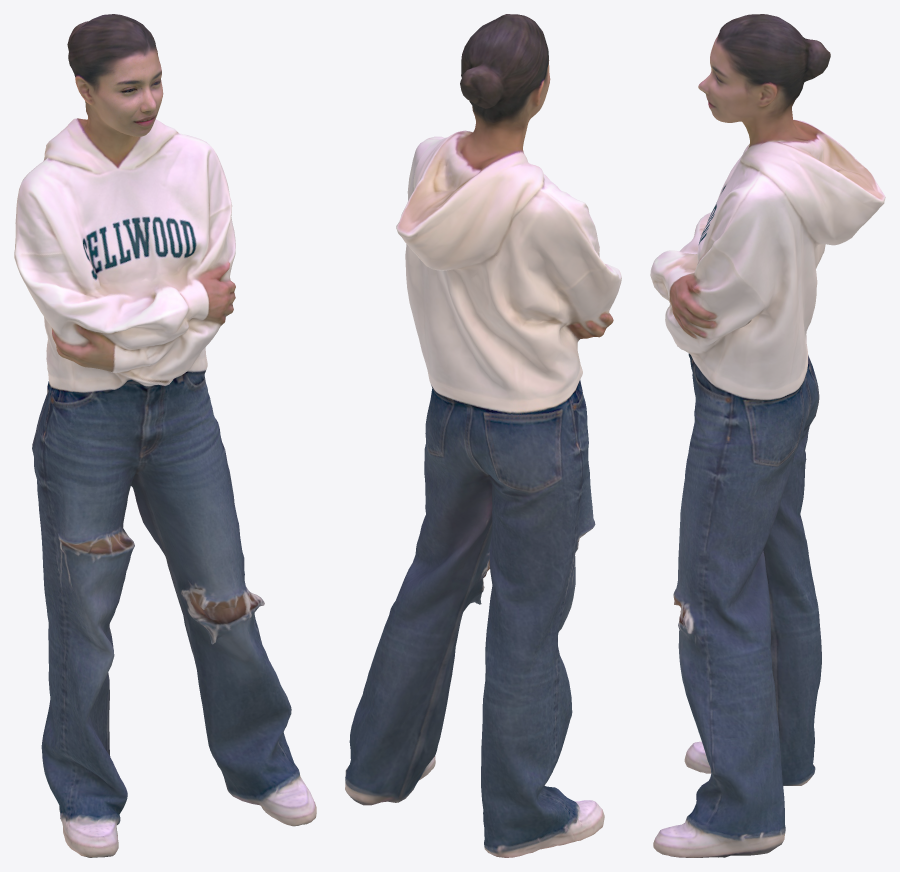
The model's file is hood.glb.
3 renders of one model, left to right at view 1: azimuth 30°, elevation 25°; view 2: azimuth 150°, elevation 25°; view 3: azimuth 270°, elevation 25°, orthographic. The views are drawn at different scales.
Parts seen in each view (by area): view 1: Frame_0416; view 2: Frame_0416; view 3: Frame_0416.
Boxes of the visible parts, x1=… form: Frame_0416: x1=14, y1=14, x2=316, y2=857; Frame_0416: x1=345, y1=14, x2=621, y2=857; Frame_0416: x1=650, y1=14, x2=885, y2=857.
Bounding box in the file's own units: 0.5895 × 1.72 × 0.4763.
Materials: 1 (1 with a texture image).
